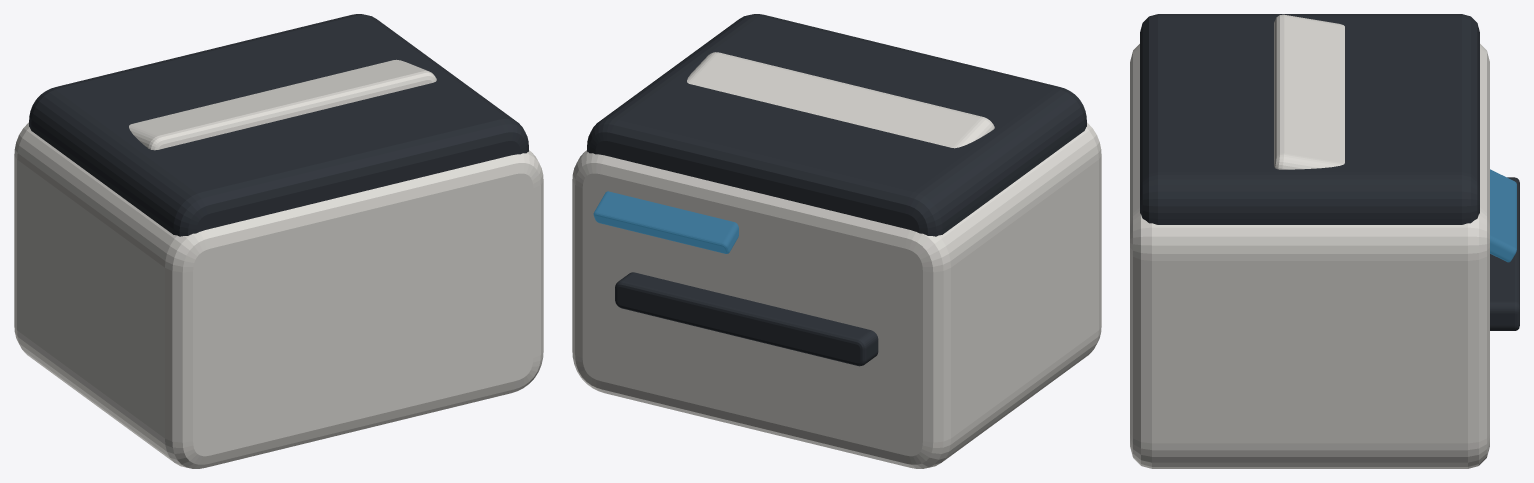
File: thermal_printer.glb
3 views of the same model, side by side, from view 1: azimuth 30°, elevation 25°; view 2: azimuth 150°, elevation 25°; view 3: azimuth 270°, elevation 25° (orthographic). The views are drawn at different scales.
Parts seen in each view (by area): view 1: thermal_printer_refined; view 2: thermal_printer_refined; view 3: thermal_printer_refined.
Boxes of the visible parts, left/top/right/bottom form: thermal_printer_refined: left=14, top=14, right=543, bottom=468; thermal_printer_refined: left=572, top=14, right=1101, bottom=468; thermal_printer_refined: left=1130, top=14, right=1519, bottom=468.
Bounding box in the file's own units: 0.464 × 0.3311 × 0.39.
